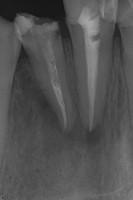Furcation Involvement: (14, 63, 103, 157)
